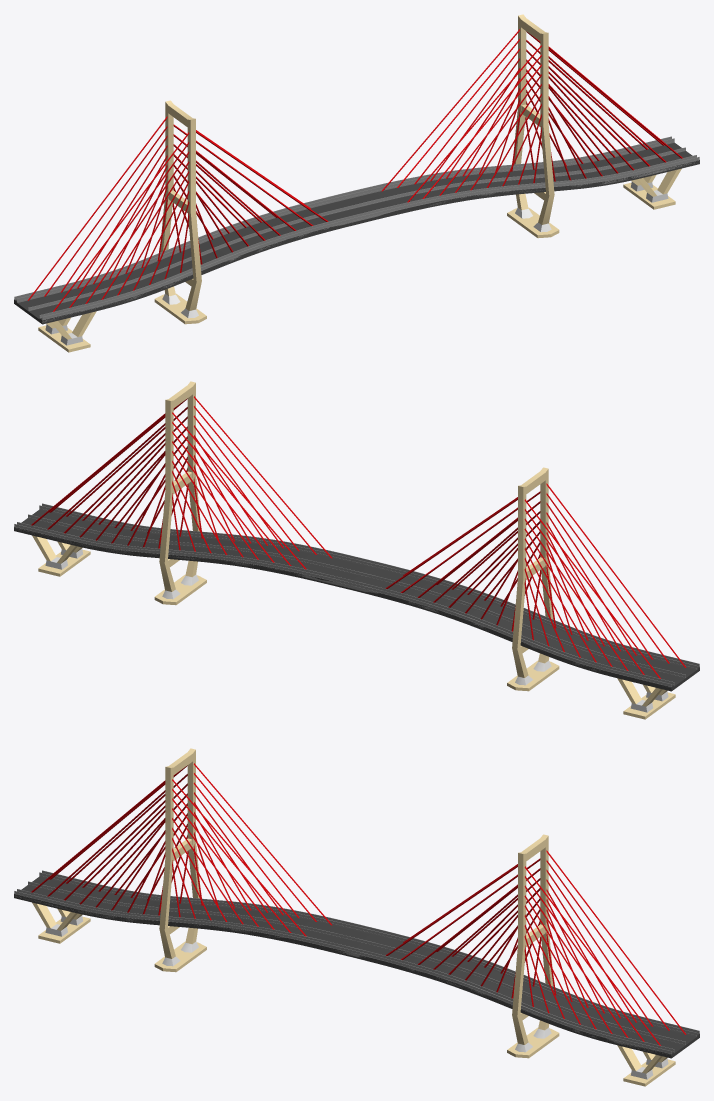
The model's file is suramadu.glb.
3 renders of one model, top to bottom at view 1: azimuth 30°, elevation 25°; view 2: azimuth 150°, elevation 25°; view 3: azimuth 330°, elevation 25°, orthographic.
Parts seen in each view (by area): view 1: Cube_Bake_0; view 2: Cube_Bake_0; view 3: Cube_Bake_0.
Part boxes in pixels (x1,y1,x2,y2): Cube_Bake_0: (14,14,699,352); Cube_Bake_0: (14,381,699,719); Cube_Bake_0: (14,748,699,1086).
Size of the model in its own units: 60.12 by 17.49 by 5.89.
1 material, 1 textured.
